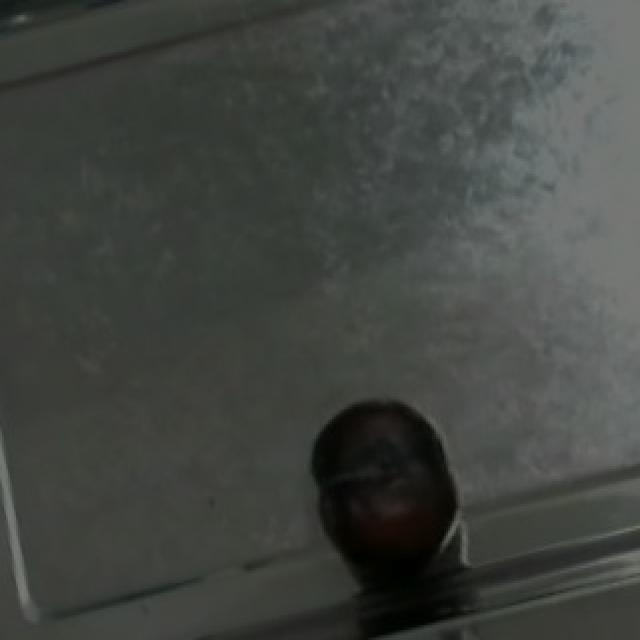Fruit: (302, 384, 470, 583)
